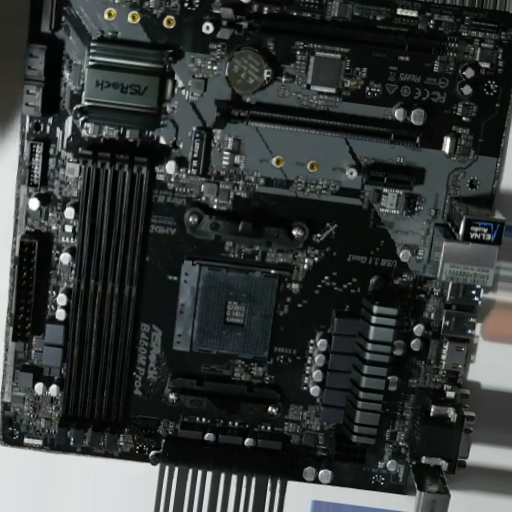CPU: (177, 261, 274, 362)
GPU: (220, 6, 465, 60), (212, 98, 420, 147)
MOTHERBOARD: (5, 1, 501, 495)
RAM: (59, 148, 152, 431)
SSD: (39, 1, 62, 35), (189, 130, 202, 174)
